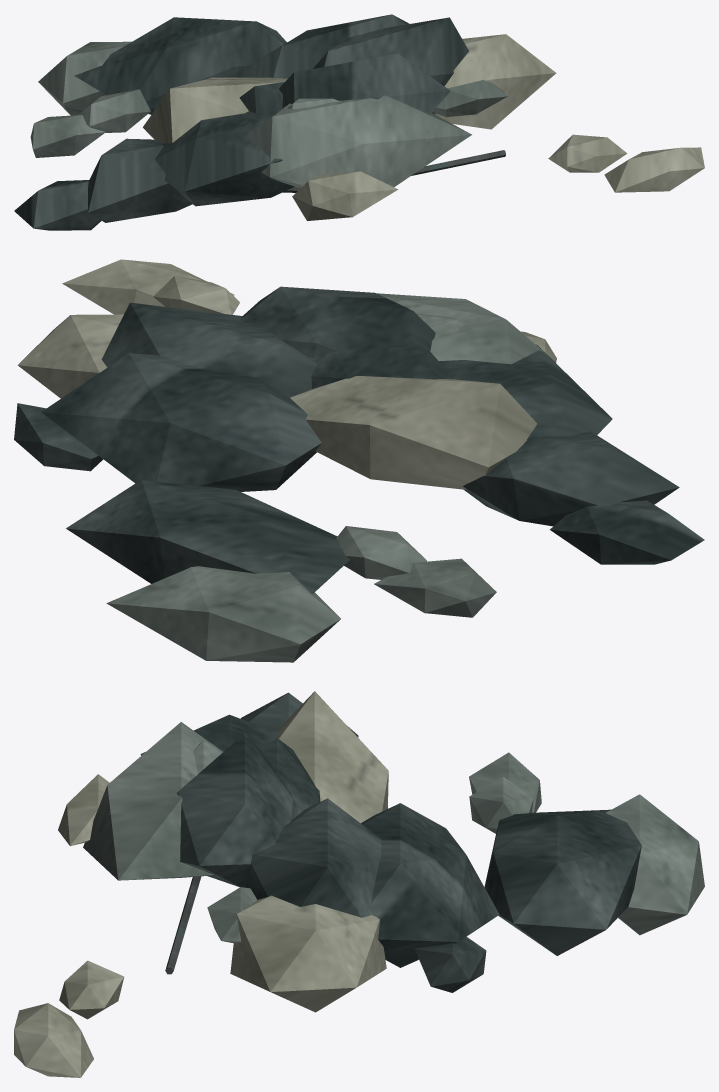
Rendered from 0117_scree_pile_17.glb.
3 renders of one model, top to bottom at view 1: azimuth 30°, elevation 25°; view 2: azimuth 150°, elevation 25°; view 3: azimuth 270°, elevation 25°, orthographic. The views are drawn at different scales.
Visible parts, largest first — view 1: stone_dark, stone, stone_light, iron; view 2: stone_dark, stone_light, stone; view 3: stone_dark, stone_light, stone, iron.
Boxes of the visible parts, x1,y1,x2,y2 form: stone_dark: (14,14,468,230); stone: (30,41,508,187); stone_light: (143,34,704,220); iron: (282,150,505,192); stone_dark: (14,286,704,594); stone_light: (17,259,556,489); stone: (106,293,556,662); stone_dark: (140,692,641,992); stone_light: (14,691,388,1077); stone: (83,722,704,943); iron: (165,876,201,974).
Bounding box in the file's own units: 2.97 × 0.7205 × 2.43.
Materials: 4 (4 with a texture image).
